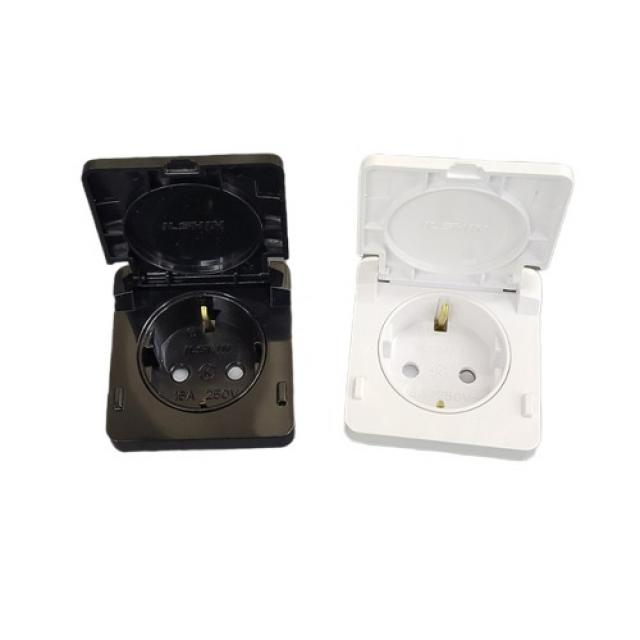typeb: (84, 264, 579, 477)
